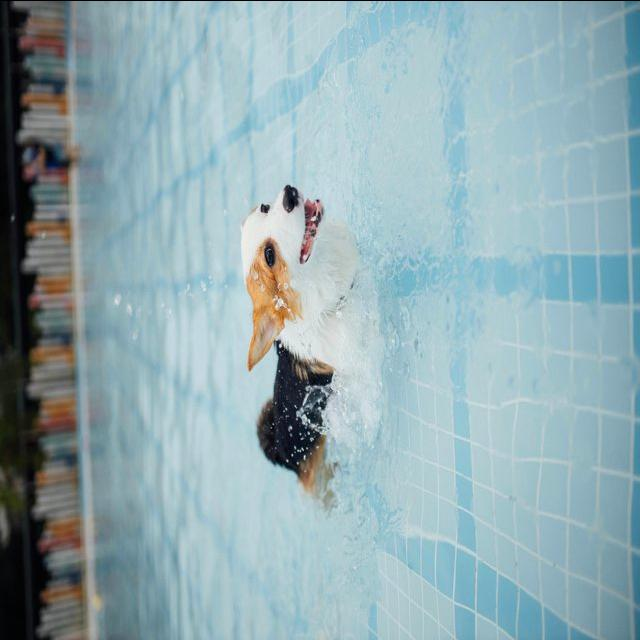corgi: (238, 182, 368, 509)
